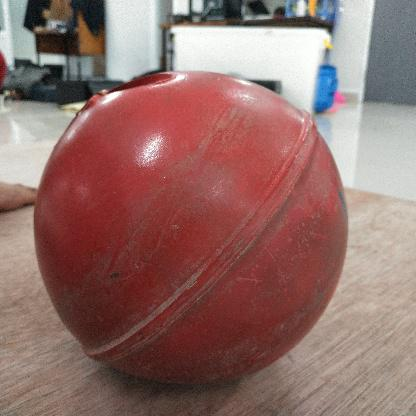red_buoy: (31, 67, 348, 379)
